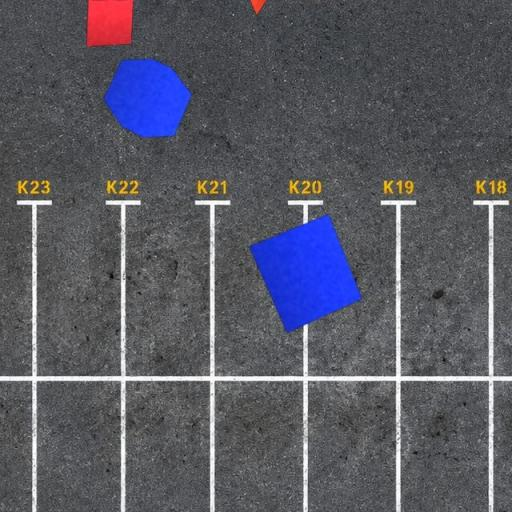BLUE_SQUARE: (248, 212, 363, 334)
RED_SQUARE: (86, 0, 134, 47)
